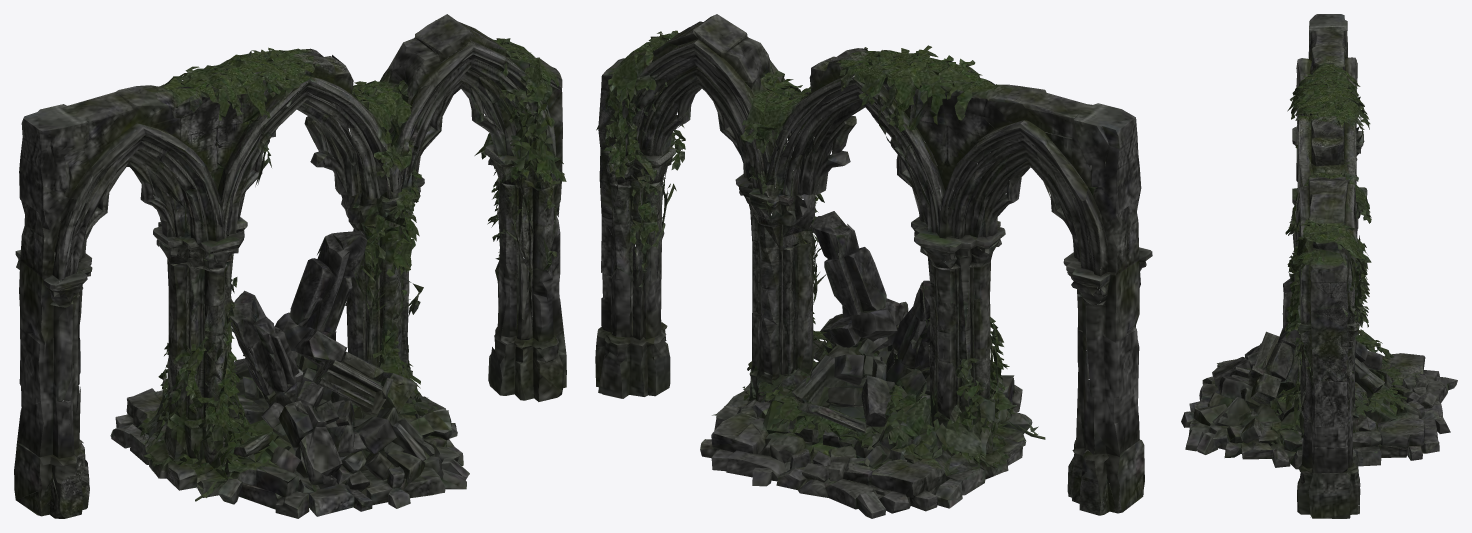
File: arcade.glb
3 renders of one model, left to right at view 1: azimuth 30°, elevation 25°; view 2: azimuth 150°, elevation 25°; view 3: azimuth 270°, elevation 25°, orthographic. The views are drawn at different scales.
Visible parts, largest first — view 1: Mesh_0; view 2: Mesh_0; view 3: Mesh_0.
Boxes of the visible parts, x1,y1,x2,y2 form: Mesh_0: [14, 14, 566, 518]; Mesh_0: [595, 14, 1152, 518]; Mesh_0: [1181, 14, 1457, 518].
Size of the model in its own units: 11.13 by 8 by 6.38.
Materials: 1 (1 with a texture image).
